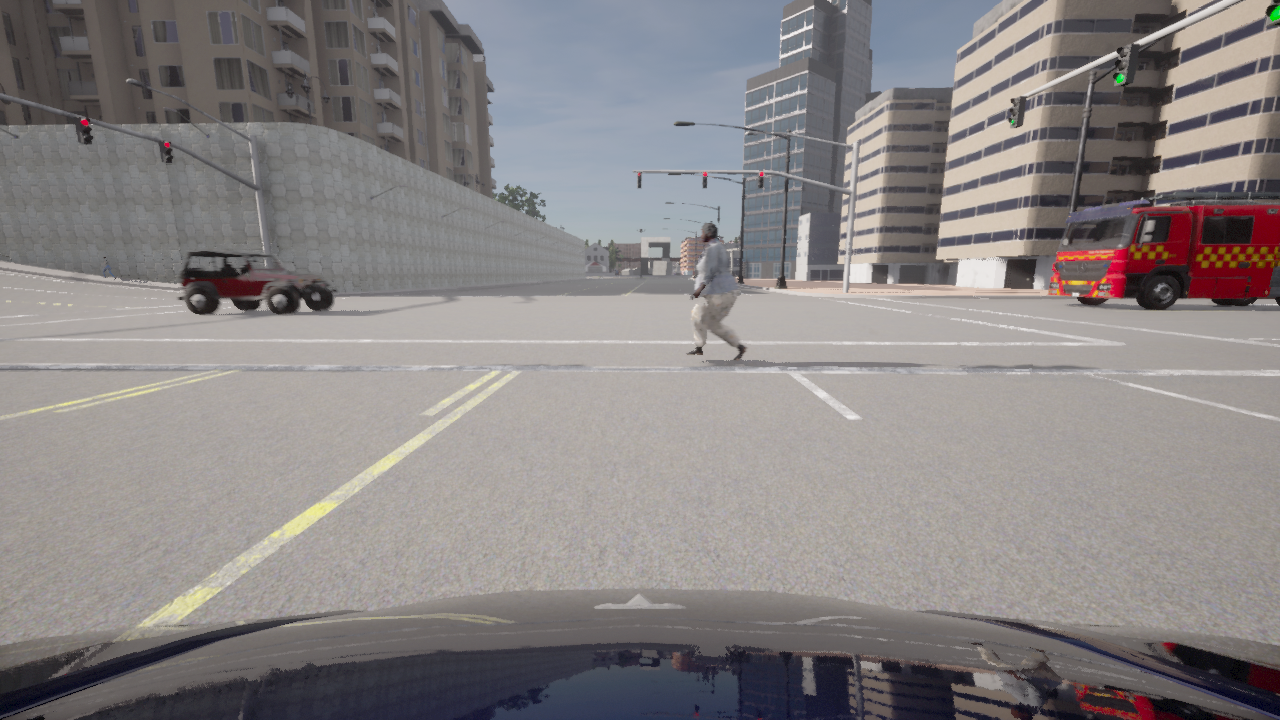cyclist: (0, 588, 1279, 719), (1048, 192, 1279, 309), (176, 249, 337, 315), (674, 272, 675, 274)
pedestrian: (684, 222, 747, 360), (102, 256, 116, 279)
